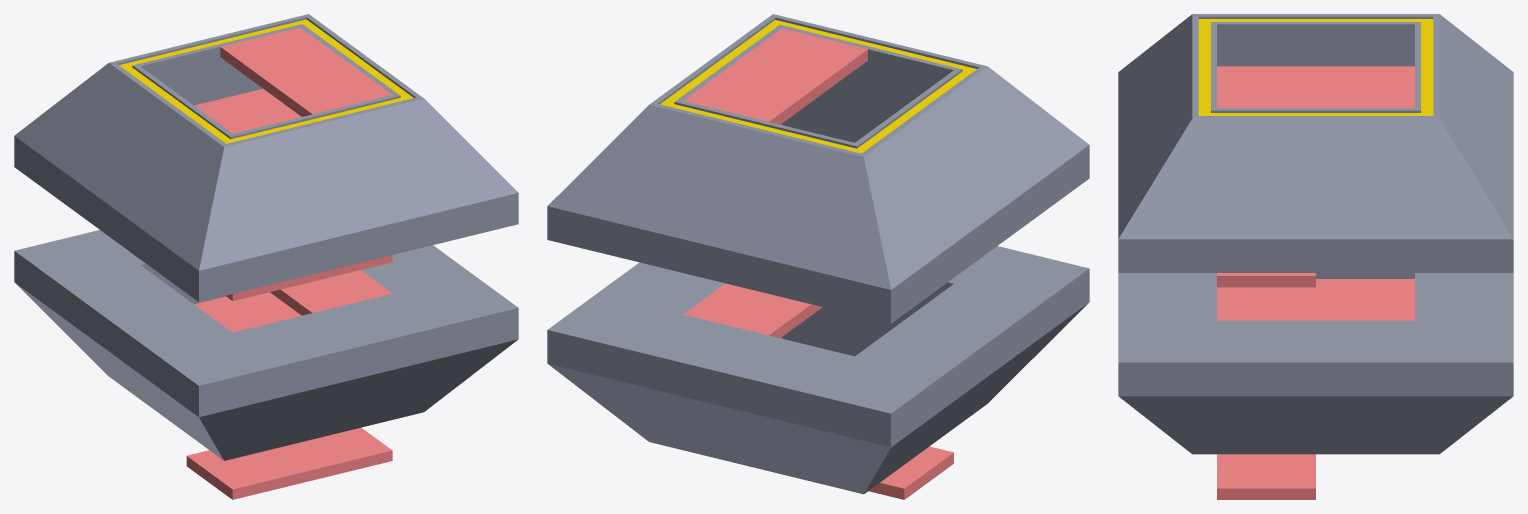
The model's file is building_townhouse_coffin_ v01.gltf.
3 views of the same model, side by side, from view 1: azimuth 30°, elevation 25°; view 2: azimuth 150°, elevation 25°; view 3: azimuth 270°, elevation 25° (orthographic). The views are drawn at different scales.
Parts seen in each view (by area): view 1: SketchUp; view 2: SketchUp; view 3: SketchUp.
Part boxes in pixels (x1,y1,x2,y2): SketchUp: (14, 14, 518, 499); SketchUp: (547, 14, 1089, 499); SketchUp: (1118, 14, 1513, 499).
Size of what is drawn, in the model's own units: 16 by 17.5 by 16.
